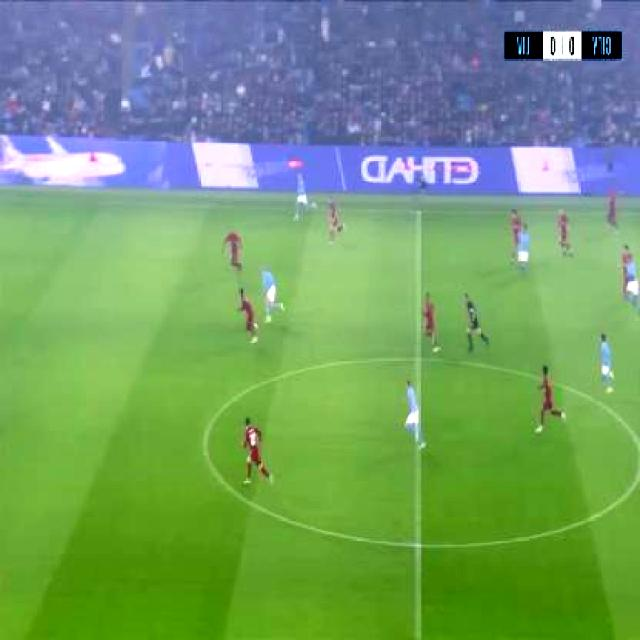halfcircle_bottom: (405, 524, 432, 564)
halfcircle_top: (404, 340, 434, 375)
midline_top_intersection: (409, 197, 429, 226)
